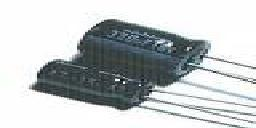Electrolytic-Capacitor: (76, 14, 219, 86), (35, 59, 150, 120)
